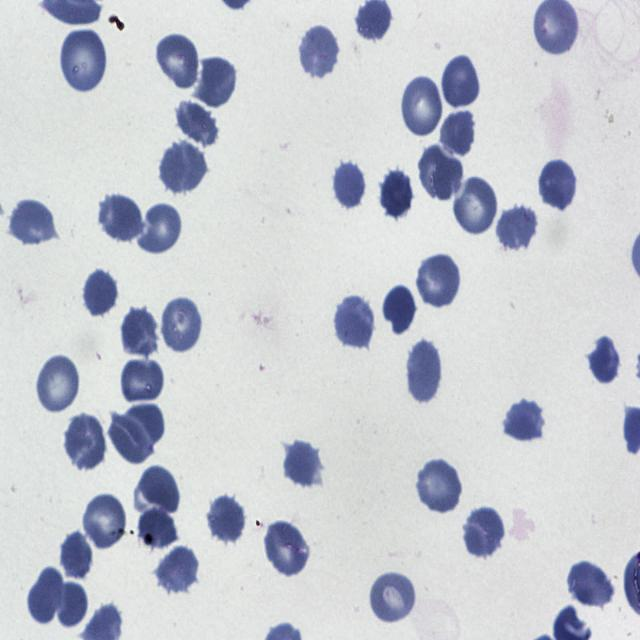red blood cell: (59, 25, 108, 94), (452, 173, 499, 238), (416, 142, 466, 203), (34, 352, 82, 415), (399, 73, 444, 140), (415, 456, 464, 516), (415, 251, 462, 312), (81, 491, 128, 552), (155, 29, 202, 90), (368, 569, 418, 626), (263, 518, 310, 577), (62, 413, 108, 472), (159, 294, 203, 355), (296, 21, 342, 79), (405, 336, 443, 406), (159, 140, 208, 194), (107, 411, 156, 464), (120, 355, 168, 409), (136, 200, 183, 255), (565, 561, 616, 611), (136, 464, 182, 519), (193, 54, 238, 109), (8, 198, 56, 249), (28, 566, 67, 628), (154, 544, 200, 596), (462, 506, 506, 560), (332, 294, 375, 349), (98, 193, 146, 242), (441, 54, 482, 110), (494, 200, 538, 252), (502, 396, 547, 446), (172, 99, 221, 144), (136, 505, 179, 556), (281, 438, 323, 490), (538, 158, 578, 212), (206, 492, 246, 545), (121, 306, 160, 360), (437, 105, 475, 157), (382, 285, 420, 336), (123, 402, 165, 448), (331, 156, 366, 210), (59, 531, 96, 582), (82, 268, 118, 318), (381, 168, 414, 220), (588, 337, 620, 385), (56, 582, 88, 628)
